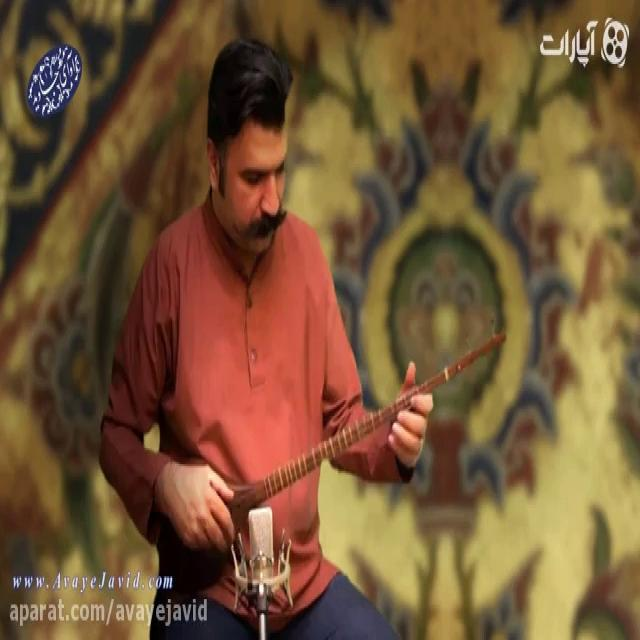Setar: (157, 314, 517, 610)
